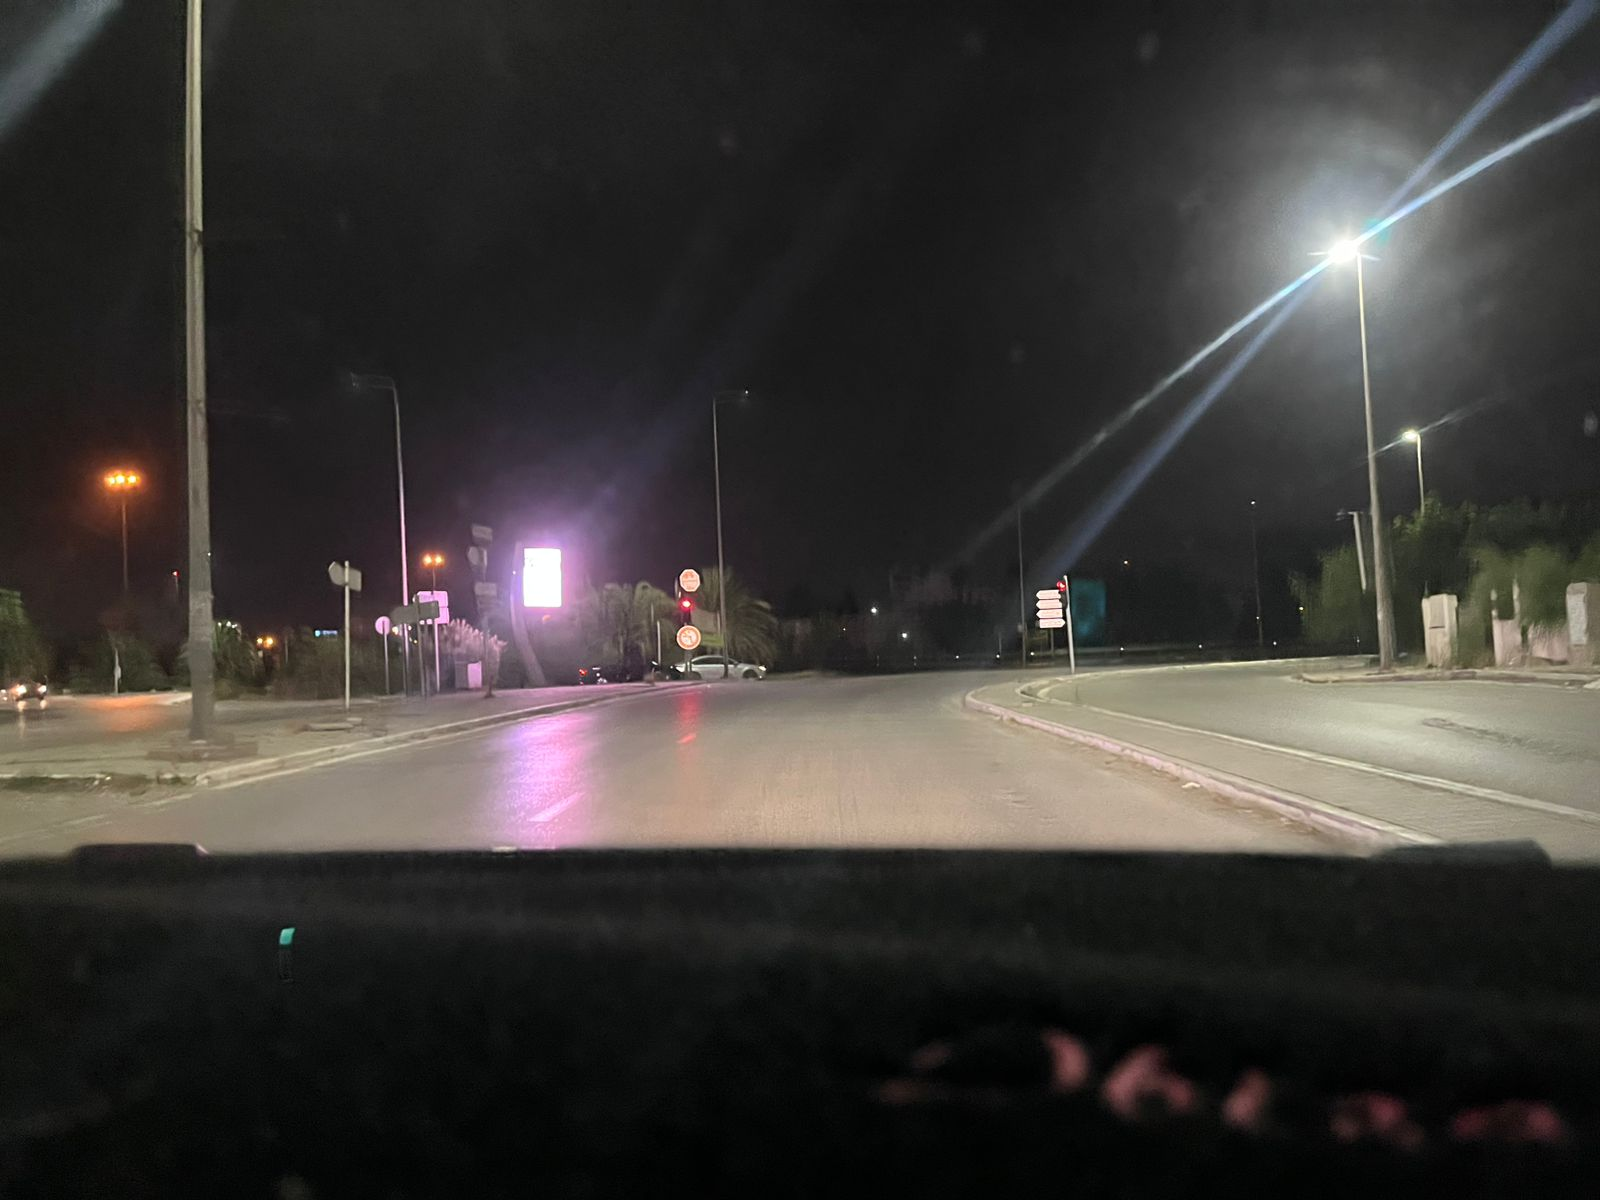RedLight: (679, 597, 692, 623)
Stop: (680, 567, 700, 593)
